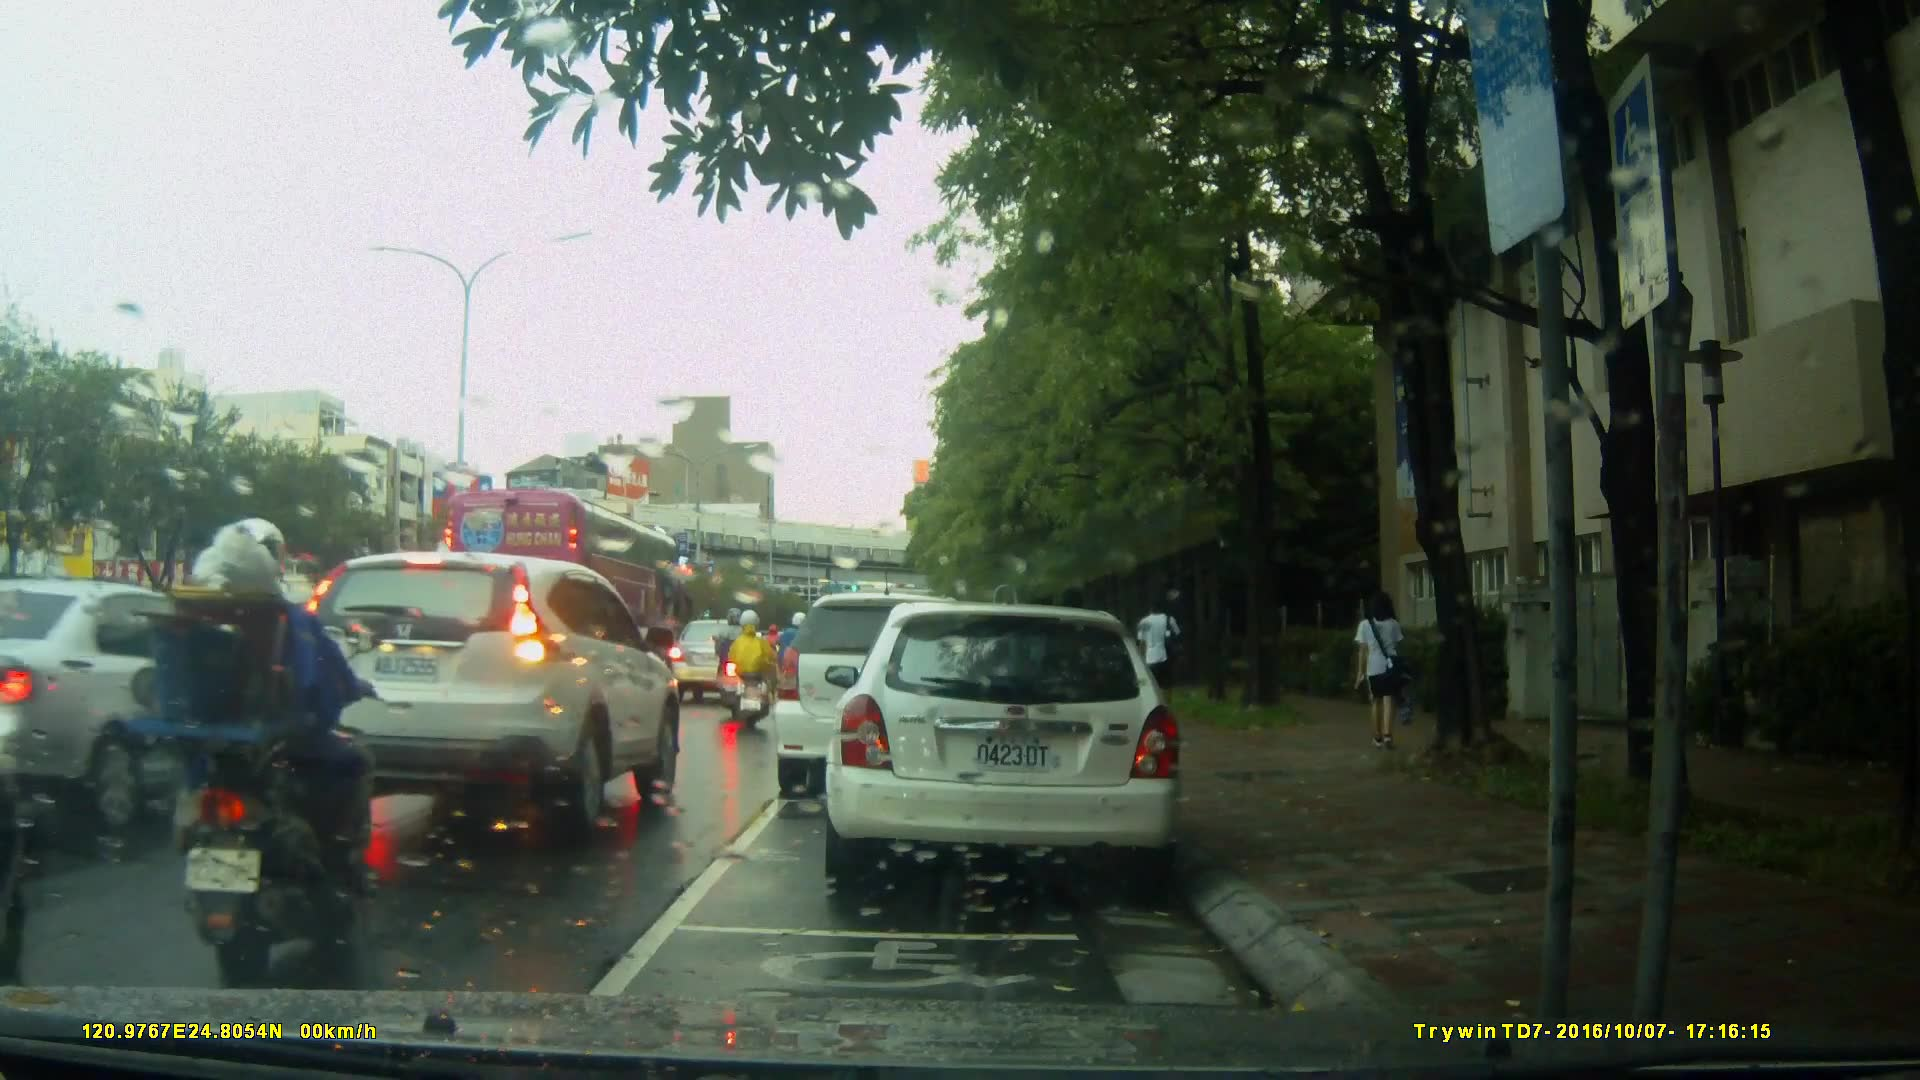pedestrian: (1342, 582, 1421, 768), (1136, 593, 1183, 716)
rider: (142, 517, 387, 983), (714, 602, 763, 716), (729, 609, 775, 732), (777, 605, 814, 707)
vehicle: (291, 550, 686, 836), (835, 594, 1194, 898), (1, 576, 373, 814), (776, 590, 1026, 784), (438, 488, 702, 669), (666, 617, 768, 704)
